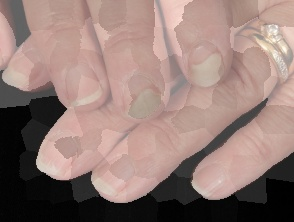Nail_psoriasis: (30, 125, 86, 186), (180, 45, 233, 94), (123, 69, 162, 120)
